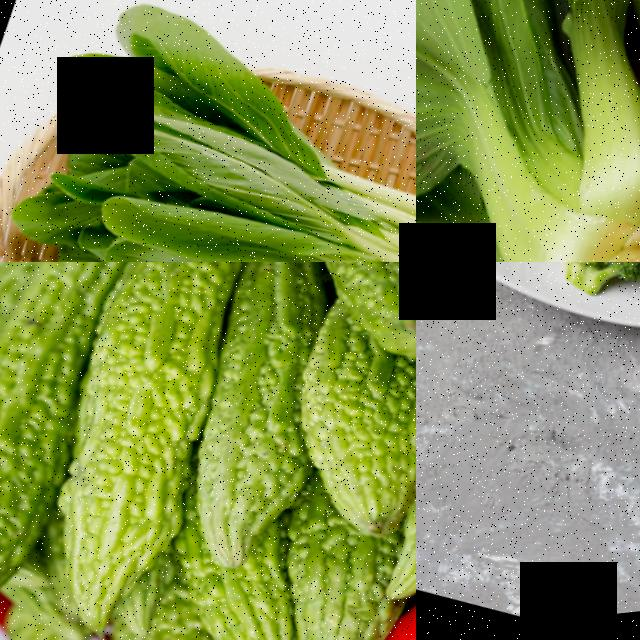bitter gourd: (19, 262, 248, 624), (0, 262, 137, 616), (165, 282, 328, 559), (268, 352, 416, 544), (251, 533, 390, 640), (151, 551, 290, 640), (334, 262, 416, 356), (383, 487, 416, 617)
bok choy: (46, 30, 416, 262), (416, 0, 640, 262), (36, 154, 416, 262), (536, 0, 640, 119)
broccoli: (536, 262, 640, 323)
